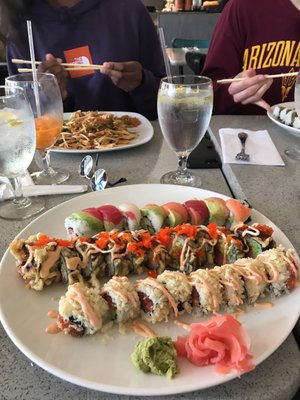curry: (130, 335, 179, 380)
sushi: (267, 101, 300, 140)
